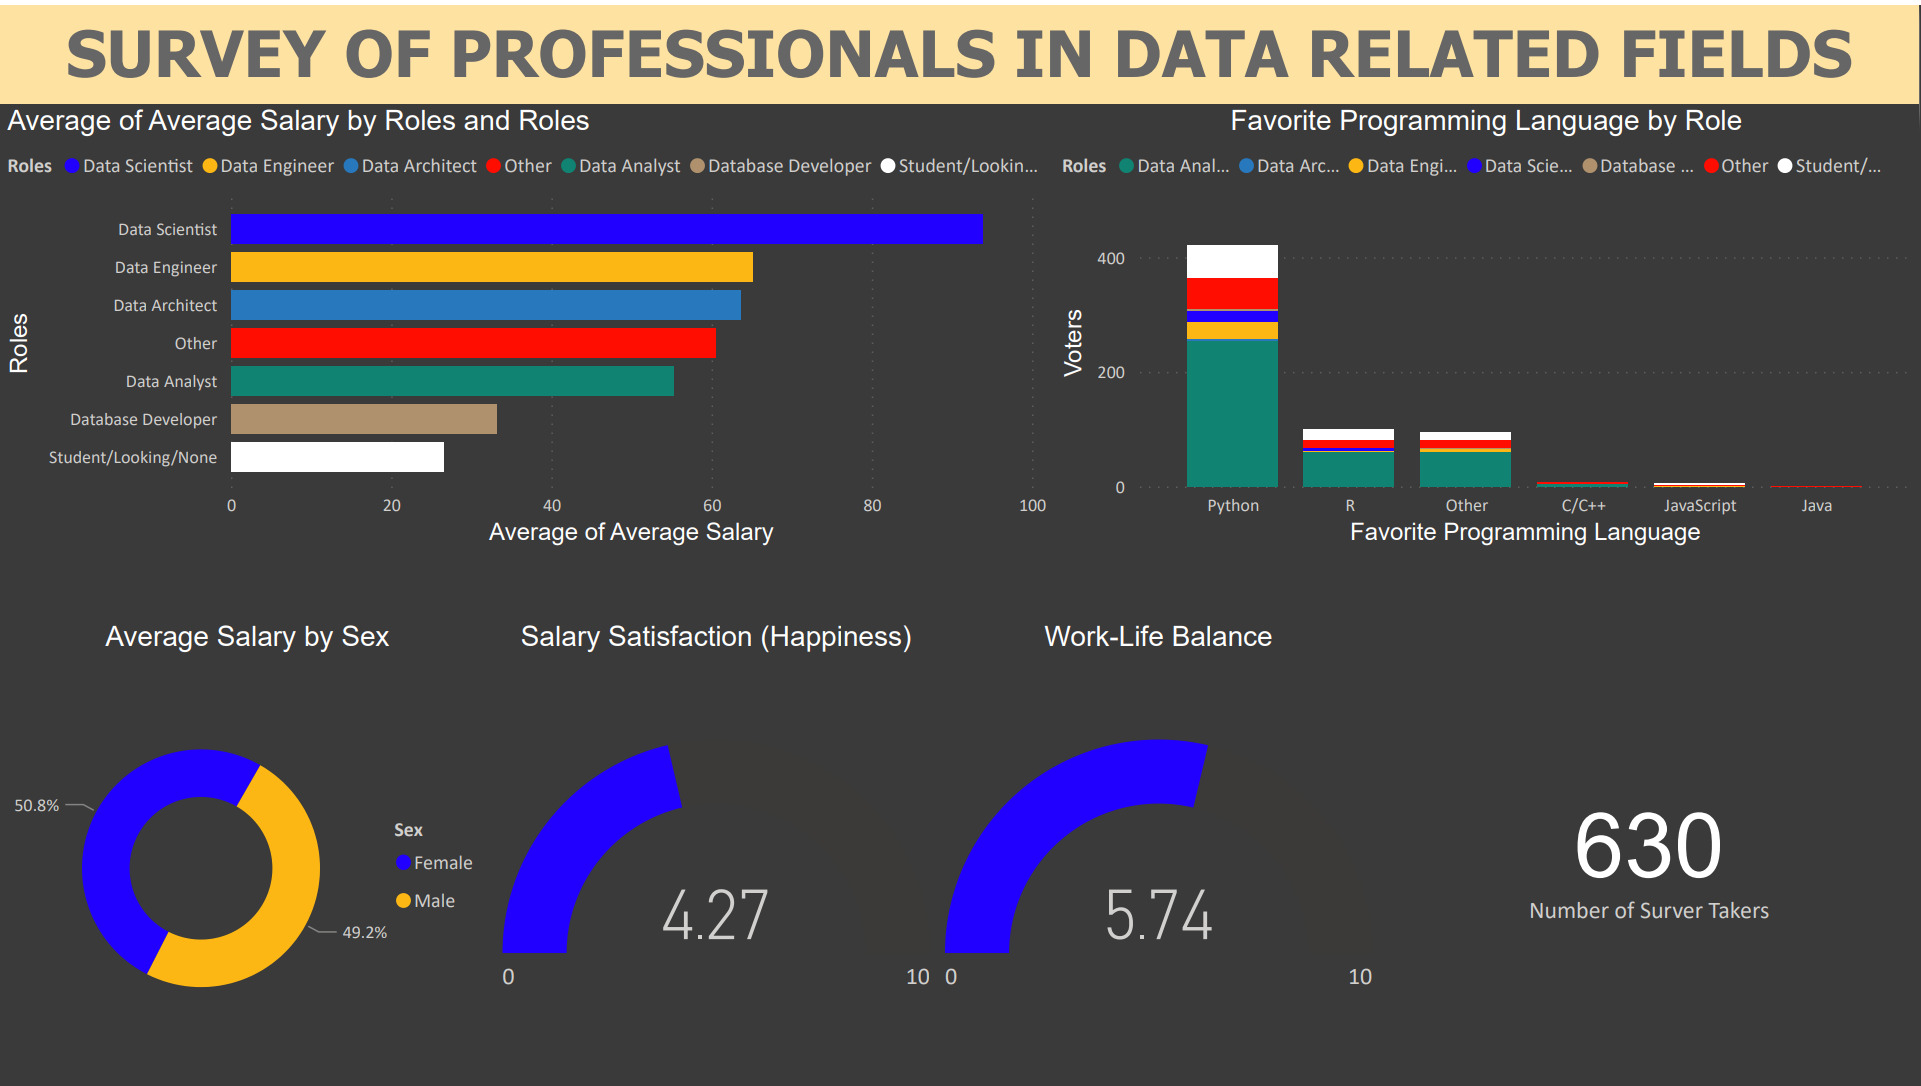

The page's visual inventory and layout, read from the dashboard file:
{"tool":"powerbi","page":{"name":"Page 1","canvas":[1280,720],"ordinal":0},"visuals":[{"type":"card","fields":{"Values":["Count(Data Professional Survey.Unique ID)"]},"box":[920.3,409.7,359.2,310.3],"z":0},{"type":"donutChart","fields":{"Category":["Data Professional Survey.Q9 - Male/Female?"],"Y":["Avg(Data Professional Survey.Average Salary)"]},"box":[0,409.7,330.2,310.3],"z":1000},{"type":"textbox","box":[0,0,1279.5,65.7],"z":2000},{"type":"barChart","fields":{"Category":["Data Professional Survey.Q1 - Which Title Best Fits your Current Role?.1"],"Y":["Avg(Data Professional Survey.Average Salary)"],"Series":["Data Professional Survey.Q1 - Which Title Best Fits your Current Role?.1"]},"box":[0,65.7,703.2,299.6],"z":3000},{"type":"gauge","title":"Salary Satisfaction (Happiness)","fields":{"Y":["Avg(Data Professional Survey.Q6 - How Happy are you in your Current Position with the following? (Salary))"],"MinValue":["Min(Data Professional Survey.Q6 - How Happy are you in your Current Position with the following? (Salary))"],"MaxValue":["Max(Data Professional Survey.Q6 - How Happy are you in your Current Position with the following? (Salary))"]},"box":[330.2,409.7,295,310.3],"z":4000},{"type":"gauge","title":"Work-Life Balance","fields":{"Y":["Avg(Data Professional Survey.Q6 - How Happy are you in your Current Position with the following? (Work/Life Balance))"],"MinValue":["Min(Data Professional Survey.Q6 - How Happy are you in your Current Position with the following? (Work/Life Balance))"],"MaxValue":["Max(Data Professional Survey.Q6 - How Happy are you in your Current Position with the following? (Work/Life Balance))"]},"box":[625.2,409.7,295,310.3],"z":5000},{"type":"columnChart","title":"Favorite Programming Language by Role","fields":{"Category":["Data Professional Survey.Q5 - Favorite Programming Language.1"],"Y":["CountNonNull(Data Professional Survey.Unique ID)"],"Series":["Data Professional Survey.Q1 - Which Title Best Fits your Current Role?.1"]},"box":[703.2,65.7,576.3,299.6],"z":6000}]}

Visuals, with their boxes in screenshot pixels (x1, y1, x2, y2), scaled from the page's 1280x720 canvas onto the 1921x1086 screenshot:
card - Count(Data Professional Survey.Unique ID): 1381,618,1920,1085
donutChart - Data Professional Survey.Q9 - Male/Female? x Avg(Data Professional Survey.Average Salary): 0,618,496,1085
textbox: 0,0,1920,99
barChart - Data Professional Survey.Q1 - Which Title Best Fits your Current Role?.1 x Avg(Data Professional Survey.Average Salary): 0,99,1055,551
"Salary Satisfaction (Happiness)" gauge: 496,618,938,1085
"Work-Life Balance" gauge: 938,618,1381,1085
"Favorite Programming Language by Role" columnChart: 1055,99,1920,551
